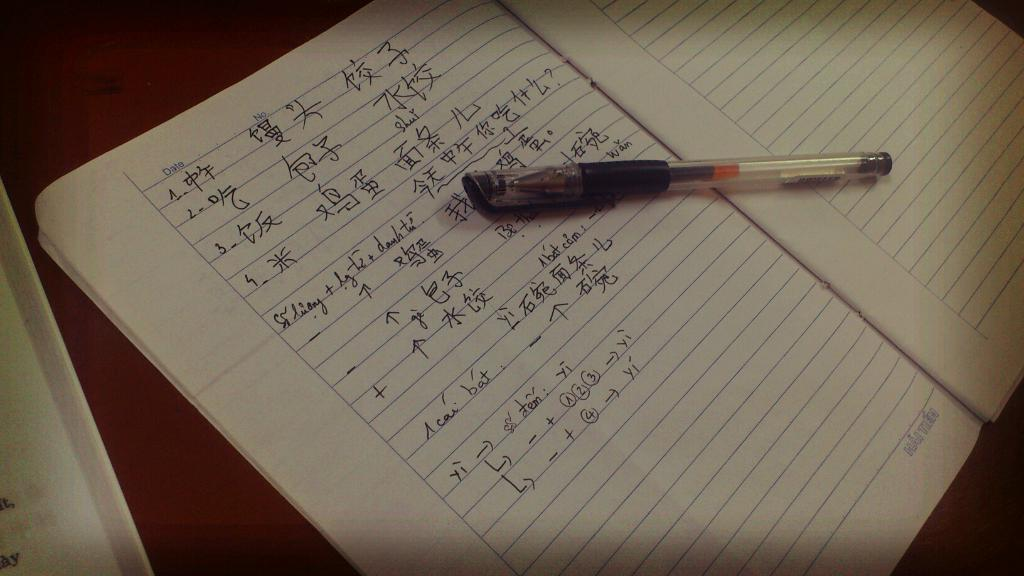pen: (467, 152, 895, 210)
